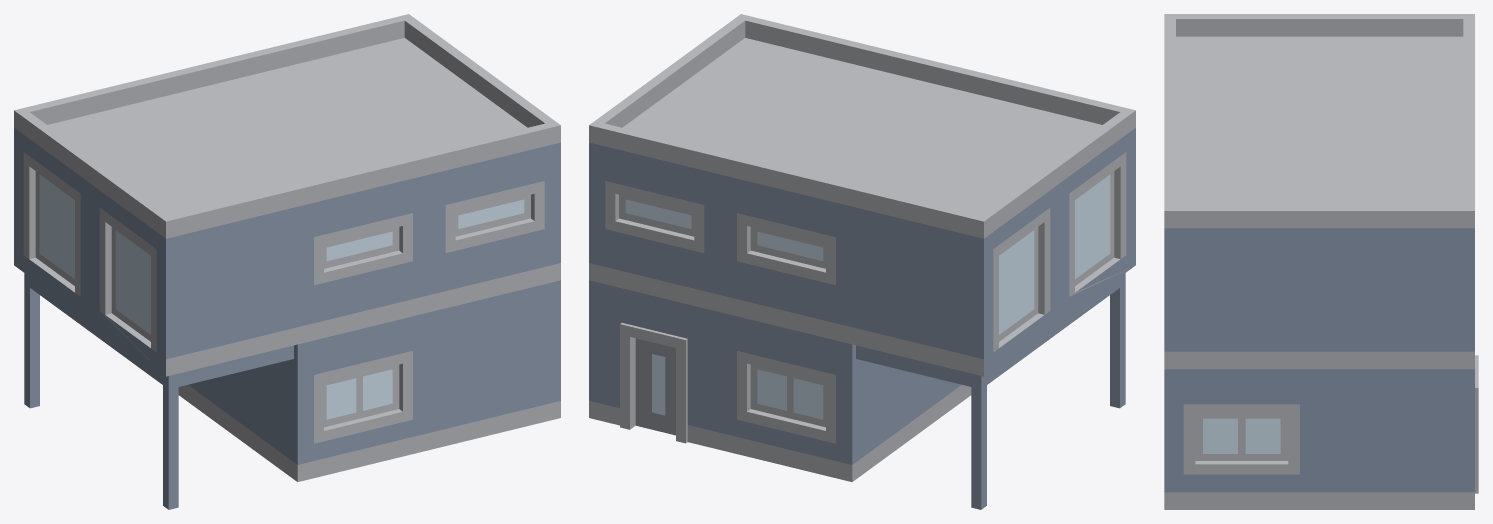
Rendered from Industrial Building1.fbx.
3 renders of one model, left to right at view 1: azimuth 30°, elevation 25°; view 2: azimuth 150°, elevation 25°; view 3: azimuth 270°, elevation 25°, orthographic. The views are drawn at different scales.
Parts seen in each view (by area): view 1: house_type20; view 2: house_type20; view 3: house_type20.
Part boxes in pixels (bbox=[...]): house_type20: bbox=[14, 14, 560, 509]; house_type20: bbox=[589, 14, 1135, 509]; house_type20: bbox=[1164, 14, 1478, 509].
Size of the model in its own units: 120 by 85 by 81.
